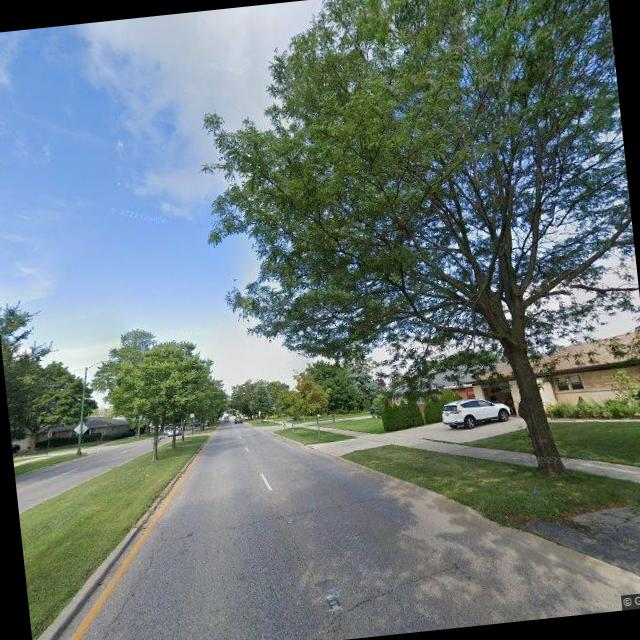crack: (81, 527, 181, 640), (332, 548, 488, 618), (176, 489, 379, 538)
